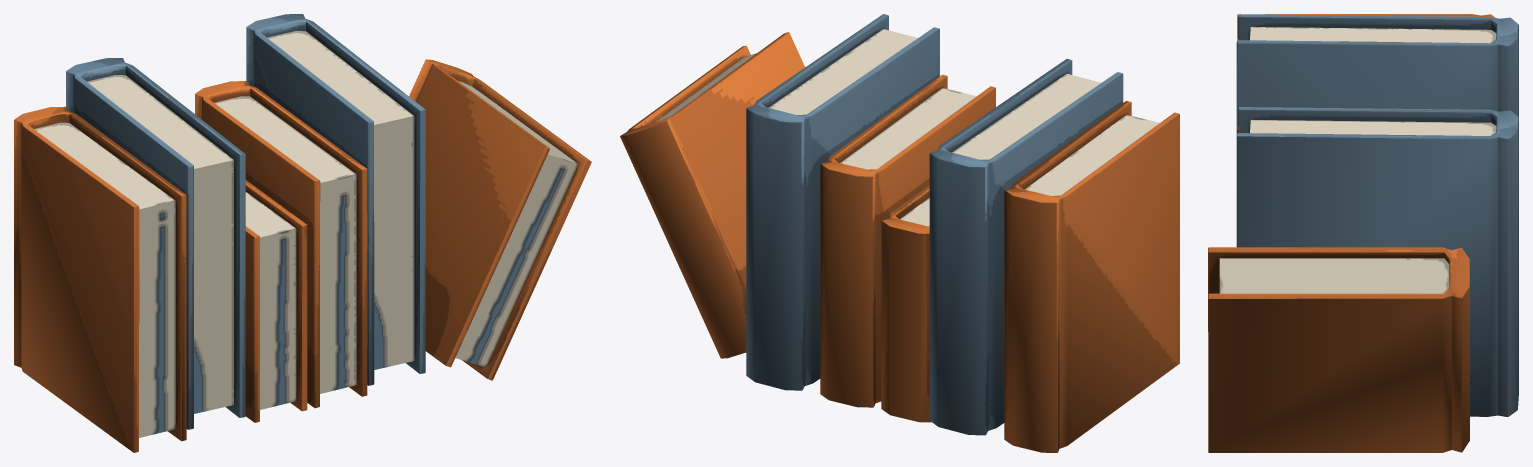
The model's file is books2_model.glb.
3 renders of one model, left to right at view 1: azimuth 30°, elevation 25°; view 2: azimuth 150°, elevation 25°; view 3: azimuth 270°, elevation 25°, orthographic. The views are drawn at different scales.
Visible parts, largest first — view 1: books_2; view 2: books_2; view 3: books_2.
Part boxes in pixels (x1=…): books_2: x1=14, y1=14, x2=591, y2=452; books_2: x1=620, y1=14, x2=1179, y2=452; books_2: x1=1208, y1=14, x2=1518, y2=452.
Bounding box in the file's own units: 0.4071 × 0.2399 × 0.2334.
1 material, 1 textured.
